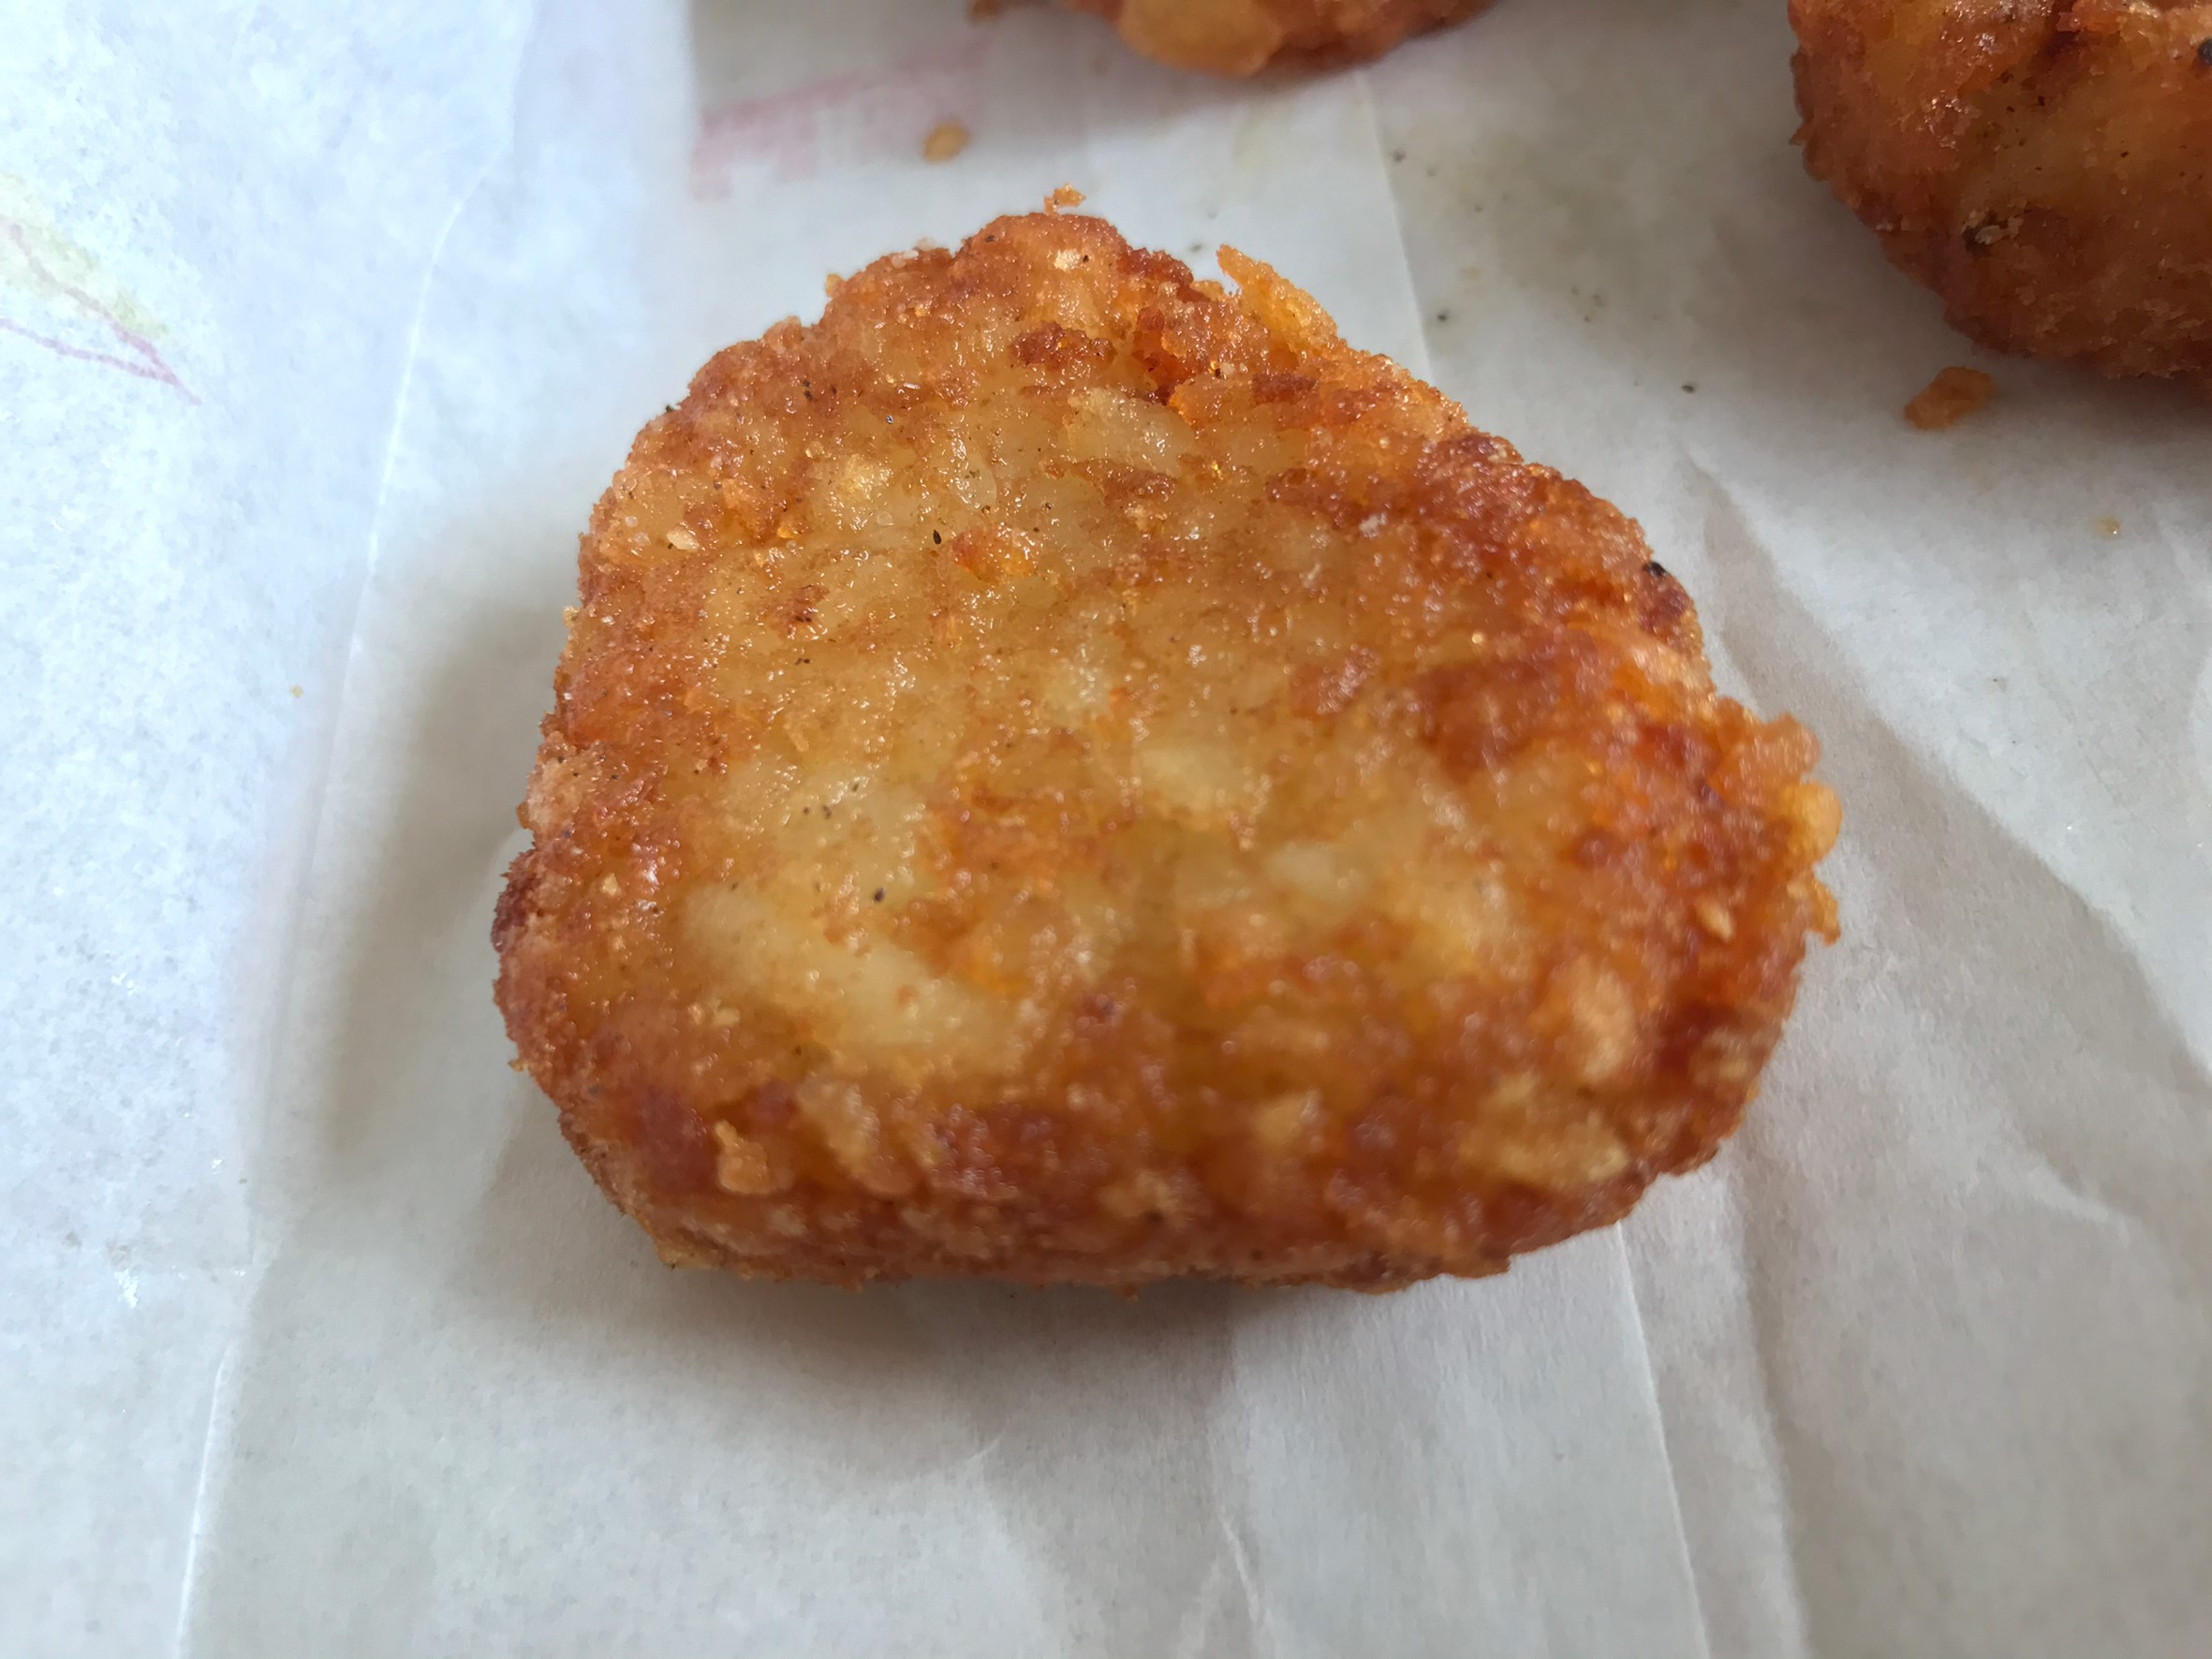triangle_hash_brown: (478, 185, 1846, 1305)
